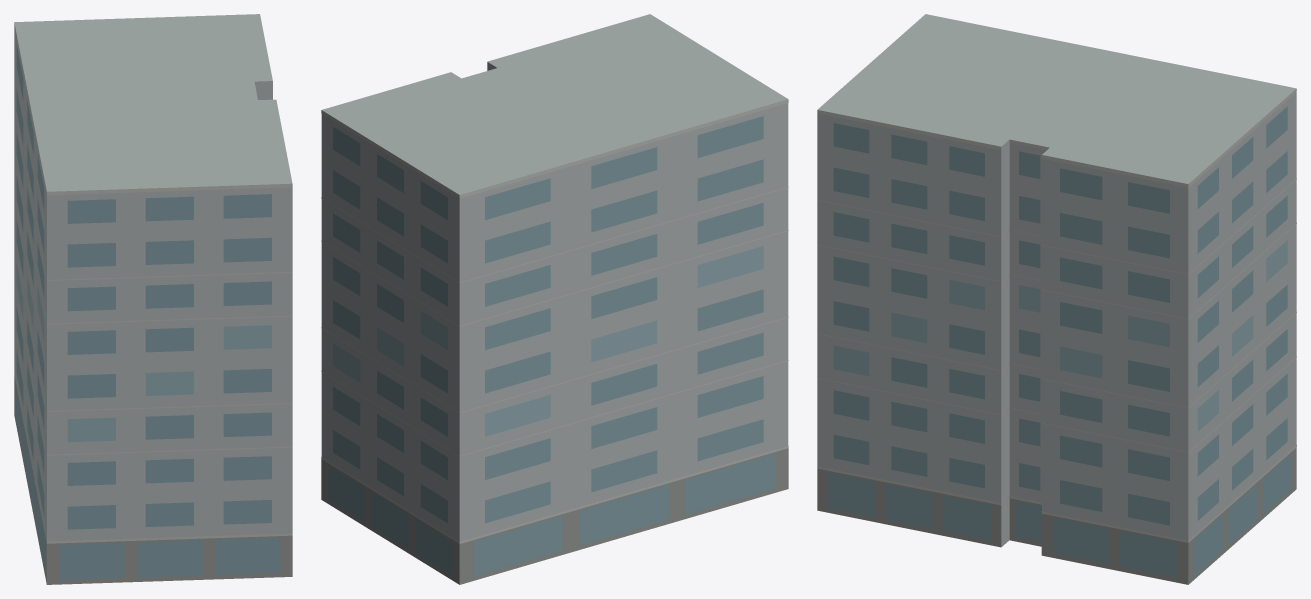
Rendered from survey-upis-33042496.glb.
The picture shows the model from 3 angles, left to right: view 1: azimuth 30°, elevation 25°; view 2: azimuth 150°, elevation 25°; view 3: azimuth 270°, elevation 25°; orthographic projection. The views are drawn at different scales.
Visible parts, largest first — view 1: survey-upis-33042496.tmp; view 2: survey-upis-33042496.tmp; view 3: survey-upis-33042496.tmp.
Part boxes in pixels (bbox=[...]): survey-upis-33042496.tmp: bbox=[14, 14, 292, 584]; survey-upis-33042496.tmp: bbox=[321, 14, 788, 584]; survey-upis-33042496.tmp: bbox=[817, 14, 1296, 584].
Size of the model in its own units: 23.52 by 25.8 by 27.99.
